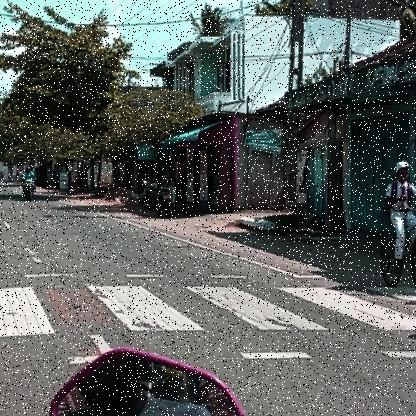motorcycle: (21, 178, 40, 202)
